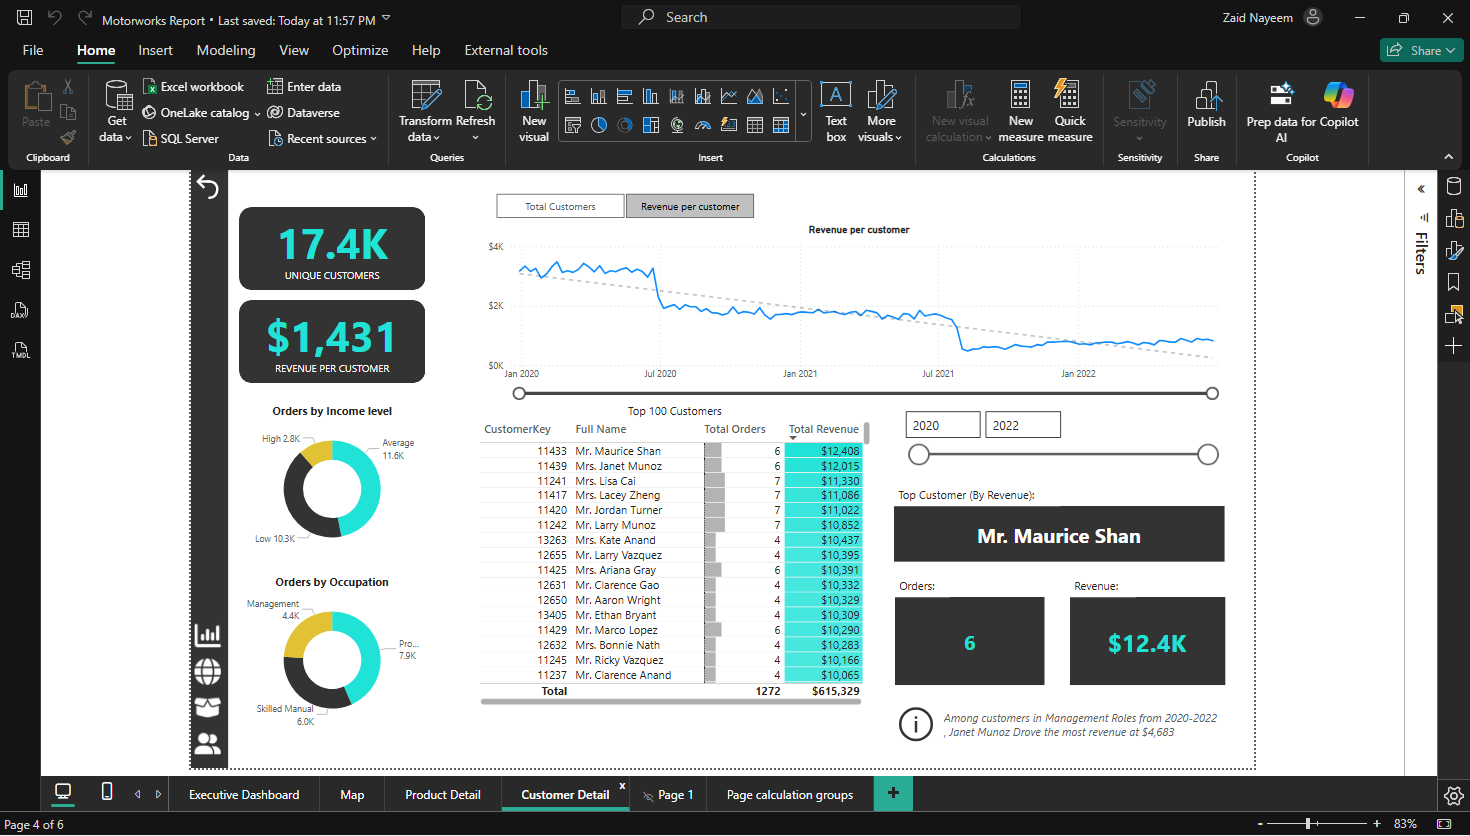

The dashboard page shown, as its layout file describes it:
{"tool":"powerbi","page":{"name":"Customer Detail","canvas":[1280,720],"ordinal":3},"visuals":[{"type":"shape","box":[0,0,45,720],"z":0},{"type":"shape","box":[57.8,156.7,224.4,100],"z":1000},{"type":"card","fields":{"Values":["Measures Table.Average Revenue per customer"]},"box":[42.2,131.1,255.6,150],"z":2000},{"type":"shape","box":[57.8,44.4,224.4,100],"z":3000},{"type":"card","fields":{"Values":["Measures Table.Total Customers"]},"box":[42.2,18.9,255.6,150],"z":4000},{"type":"lineChart","fields":{"Category":["Calendar Lookup.Date Hierarchy.Start of Year","Calendar Lookup.Date Hierarchy.Start of Month","Calendar Lookup.Date Hierarchy.Start of Week","Calendar Lookup.Date Hierarchy.Date"],"Y":["Measures Table.Average Revenue per customer"]},"box":[353,65.5,903.6,215.1],"z":5000},{"type":"donutChart","title":"Orders by Income level","fields":{"Category":["Customer Lookup.Income Level"],"Y":["Measures Table.Total Orders"]},"box":[57.8,281.1,224.4,190],"z":6000},{"type":"donutChart","title":"Orders by Occupation","fields":{"Category":["Customer Lookup.Occupation"],"Y":["Measures Table.Total Orders"]},"box":[57.8,486.7,224.4,190],"z":7000},{"type":"tableEx","title":"Top 100 Customers","fields":{"Values":["Customer Lookup.CustomerKey","Customer Lookup.Full Name","Measures Table.Total Orders","Measures Table.Total Revenue"]},"box":[342.2,281.1,481.1,368.9],"z":8000},{"type":"cardVisual","fields":{"Data":["Customer Lookup.Full Name(Customer Detail)"]},"box":[846.7,404.4,397.8,66.7],"z":9000},{"type":"cardVisual","fields":{"Data":["Measures Table.Total Revenue(Customer Detail)"]},"box":[1058.9,514.4,186.7,105.6],"z":10000},{"type":"cardVisual","fields":{"Data":["Measures Table.Total Orders(Customer Detail)"]},"box":[847.8,514.4,180,105.6],"z":11000},{"type":"textbox","box":[846.7,376.7,200,27.8],"z":12000},{"type":"textbox","box":[847.8,486.7,65.6,27.8],"z":13000},{"type":"textbox","box":[1058.9,486.7,80,27.8],"z":14000},{"type":"slicer","fields":{"Values":["Calendar Lookup.Year"]},"box":[847.8,281.1,397.8,82.2],"z":15000},{"type":"actionButton","box":[846.7,636.7,398.9,61.1],"z":15001},{"type":"actionButton","box":[0,0,45.6,40],"z":15002},{"type":"actionButton","box":[0,540,45.6,40],"z":15003},{"type":"actionButton","box":[0,583.7,45.6,40],"z":15004},{"type":"actionButton","box":[0,627.4,45.6,40],"z":15005},{"type":"actionButton","box":[0,671.1,45.6,40],"z":15006},{"type":"slicer","fields":{"Values":["Customer Metric Selection .Customer Metric Selection "]},"box":[342.5,22.2,360,43.3],"z":15007}]}

Visuals, with their boxes on the page's 1280x720 design canvas (x1, y1, x2, y2). These are canvas units, not pixel positions in the 1470x836 screenshot, which may show the page scaled, cropped or inside an application window:
shape: {"x1": 0, "y1": 0, "x2": 45, "y2": 720}
shape: {"x1": 58, "y1": 157, "x2": 282, "y2": 257}
card - Measures Table.Average Revenue per customer: {"x1": 42, "y1": 131, "x2": 298, "y2": 281}
shape: {"x1": 58, "y1": 44, "x2": 282, "y2": 144}
card - Measures Table.Total Customers: {"x1": 42, "y1": 19, "x2": 298, "y2": 169}
lineChart - Calendar Lookup.Date Hierarchy.Start of Year x Calendar Lookup.Date Hierarchy.Start of Month: {"x1": 353, "y1": 66, "x2": 1257, "y2": 281}
"Orders by Income level" donutChart: {"x1": 58, "y1": 281, "x2": 282, "y2": 471}
"Orders by Occupation" donutChart: {"x1": 58, "y1": 487, "x2": 282, "y2": 677}
"Top 100 Customers" tableEx: {"x1": 342, "y1": 281, "x2": 823, "y2": 650}
cardVisual - Customer Lookup.Full Name(Customer Detail): {"x1": 847, "y1": 404, "x2": 1244, "y2": 471}
cardVisual - Measures Table.Total Revenue(Customer Detail): {"x1": 1059, "y1": 514, "x2": 1246, "y2": 620}
cardVisual - Measures Table.Total Orders(Customer Detail): {"x1": 848, "y1": 514, "x2": 1028, "y2": 620}
textbox: {"x1": 847, "y1": 377, "x2": 1047, "y2": 404}
textbox: {"x1": 848, "y1": 487, "x2": 913, "y2": 514}
textbox: {"x1": 1059, "y1": 487, "x2": 1139, "y2": 514}
slicer - Calendar Lookup.Year: {"x1": 848, "y1": 281, "x2": 1246, "y2": 363}
actionButton: {"x1": 847, "y1": 637, "x2": 1246, "y2": 698}
actionButton: {"x1": 0, "y1": 0, "x2": 46, "y2": 40}
actionButton: {"x1": 0, "y1": 540, "x2": 46, "y2": 580}
actionButton: {"x1": 0, "y1": 584, "x2": 46, "y2": 624}
actionButton: {"x1": 0, "y1": 627, "x2": 46, "y2": 667}
actionButton: {"x1": 0, "y1": 671, "x2": 46, "y2": 711}
slicer - Customer Metric Selection .Customer Metric Selection : {"x1": 342, "y1": 22, "x2": 702, "y2": 66}
